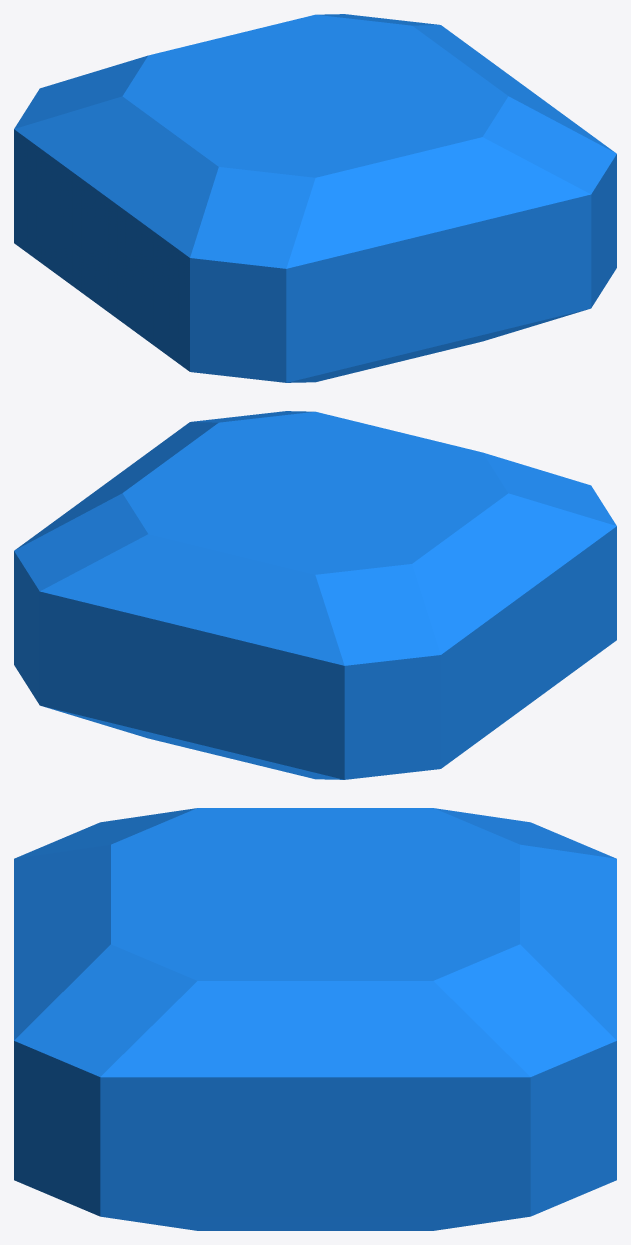
The picture shows the model from 3 angles, top to bottom: view 1: azimuth 30°, elevation 25°; view 2: azimuth 150°, elevation 25°; view 3: azimuth 270°, elevation 25°; orthographic projection. The views are drawn at different scales.
Parts seen in each view (by area): view 1: Cube.029; view 2: Cube.029; view 3: Cube.029.
Boxes of the visible parts, left/top/right/bottom form: Cube.029: left=14, top=14, right=616, bottom=382; Cube.029: left=14, top=411, right=616, bottom=779; Cube.029: left=14, top=808, right=616, bottom=1230.
Size of the model in its own units: 0.5 by 0.2288 by 0.5.
1 material, 1 textured.
